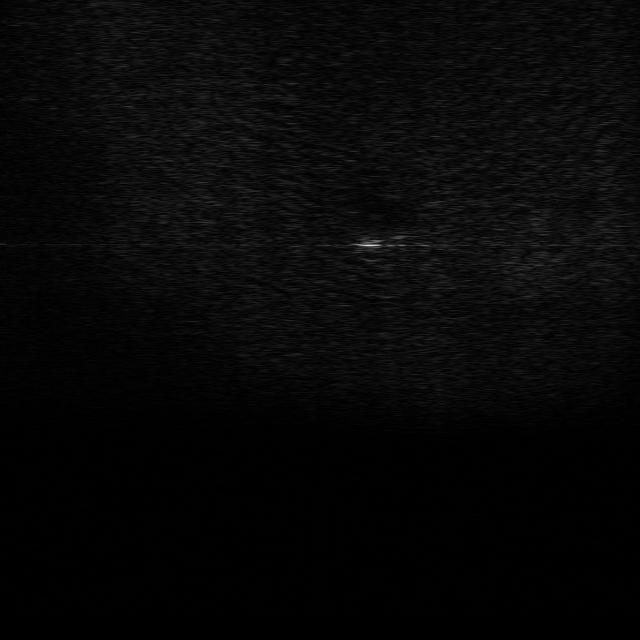plane: (349, 228, 415, 255)
